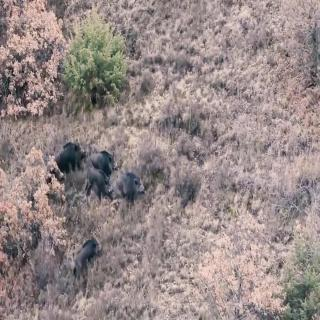Pig: (65, 223, 100, 280), (112, 169, 161, 204), (54, 132, 92, 172), (92, 140, 125, 169), (86, 167, 108, 194)
